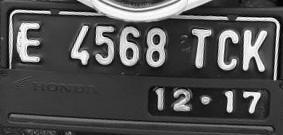4: (64, 23, 94, 68)
5: (91, 23, 120, 68)
6: (118, 24, 143, 68)
8: (142, 25, 171, 69)
C: (215, 28, 241, 72)
E: (16, 20, 44, 65)
K: (240, 28, 272, 74)
T: (186, 26, 216, 70)
